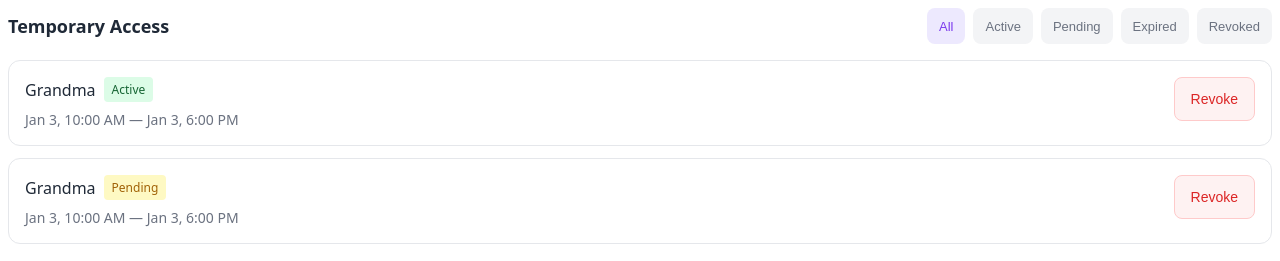
Test: TemporaryAccessList › Filtering › filters by pending status
What coordinates should you click on to do the following:
click the button with test id "filter-pending"
I would click on:
 (1077, 26)
Its box is [1041,8,1113,44].
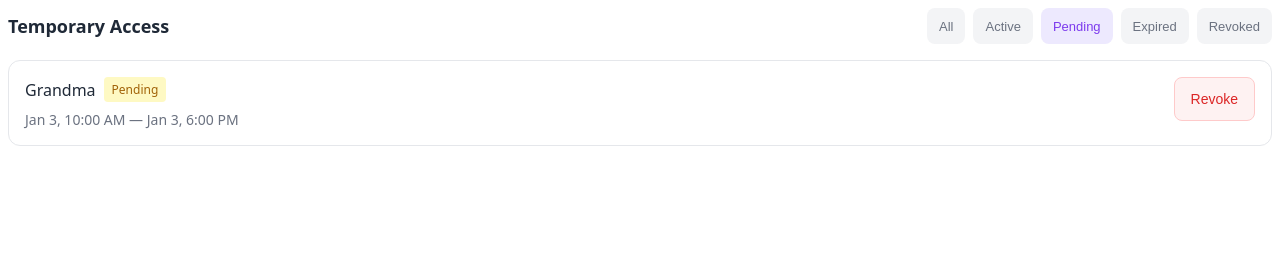
Expected: the element with test id "grant-grant-1" is shown, [8,60,1272,146]
Expected: the element with test id "grant-grant-2" is gone
